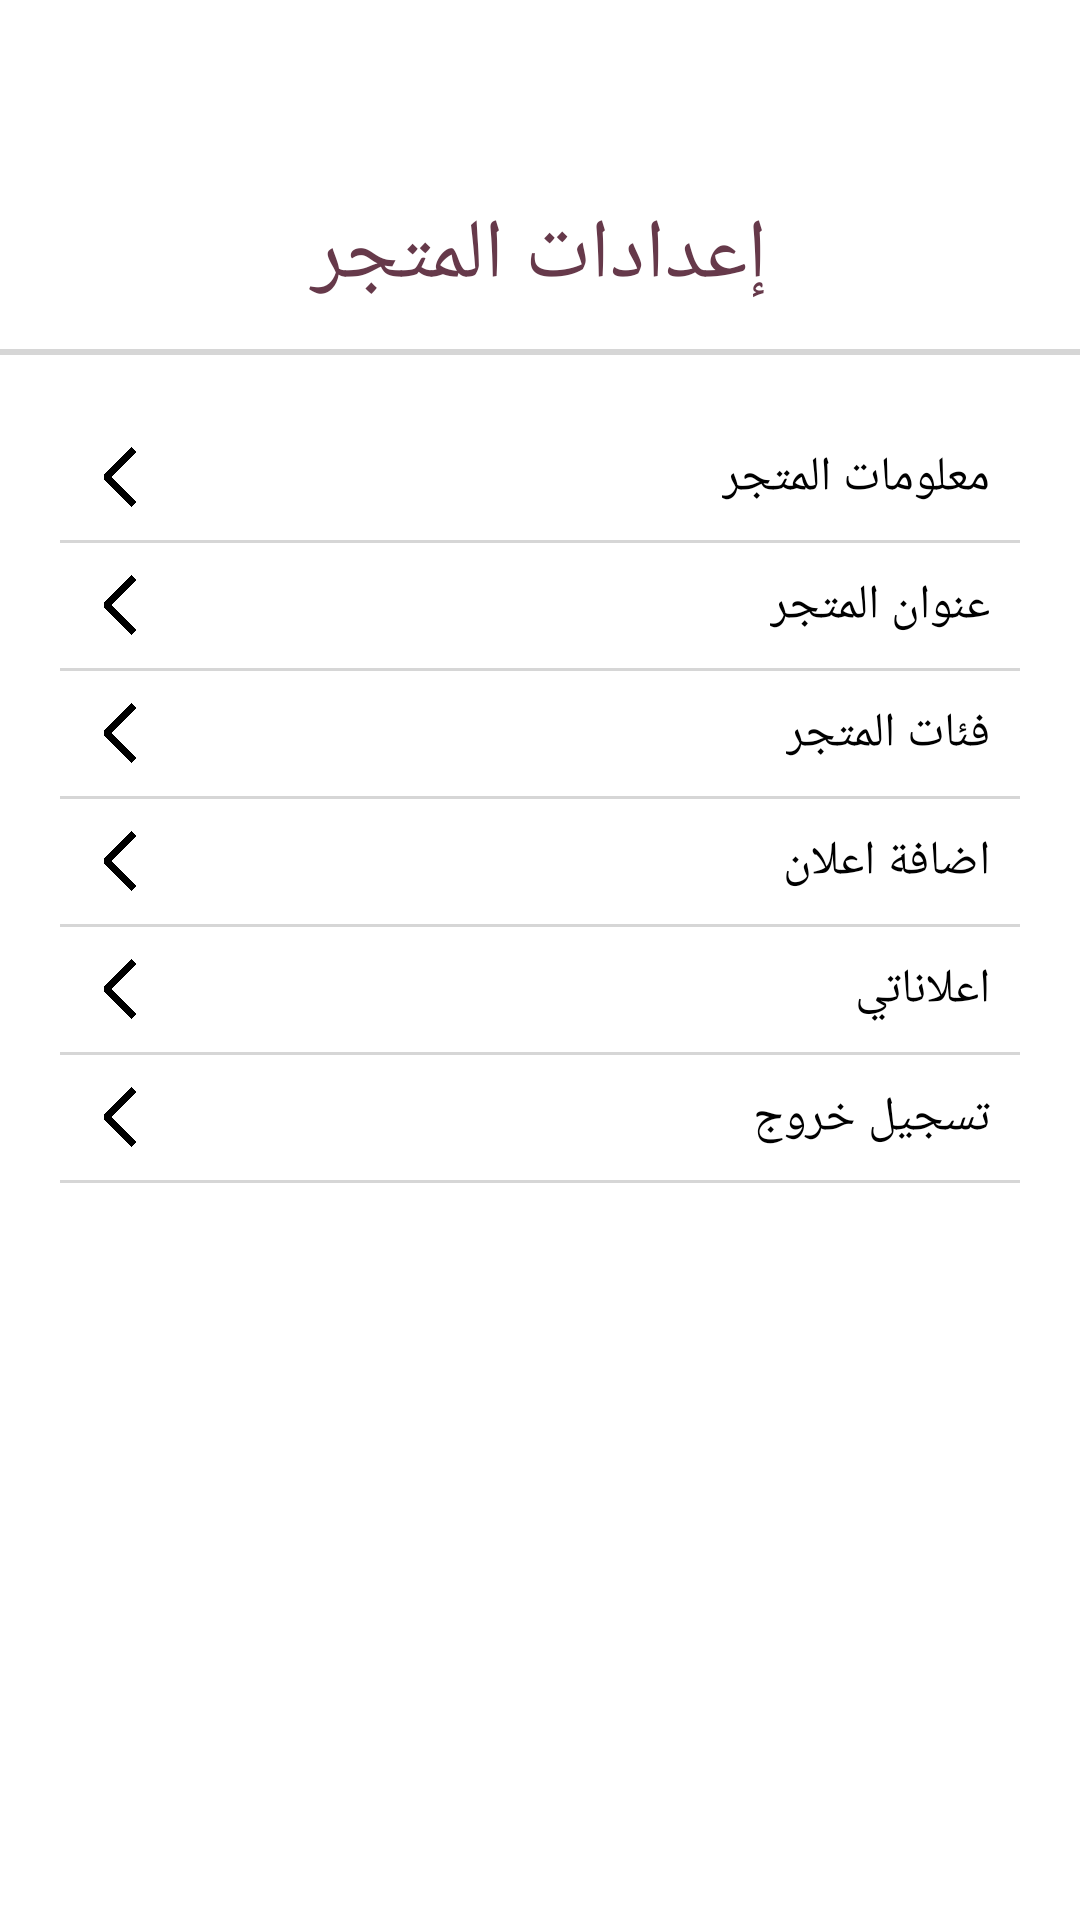

Where to tap for icons on this 1080 × 1920 app screen, as [x,y]:
arrow to go: [120,477], [120,605], [120,733], [120,861], [120,989], [120,1117]
